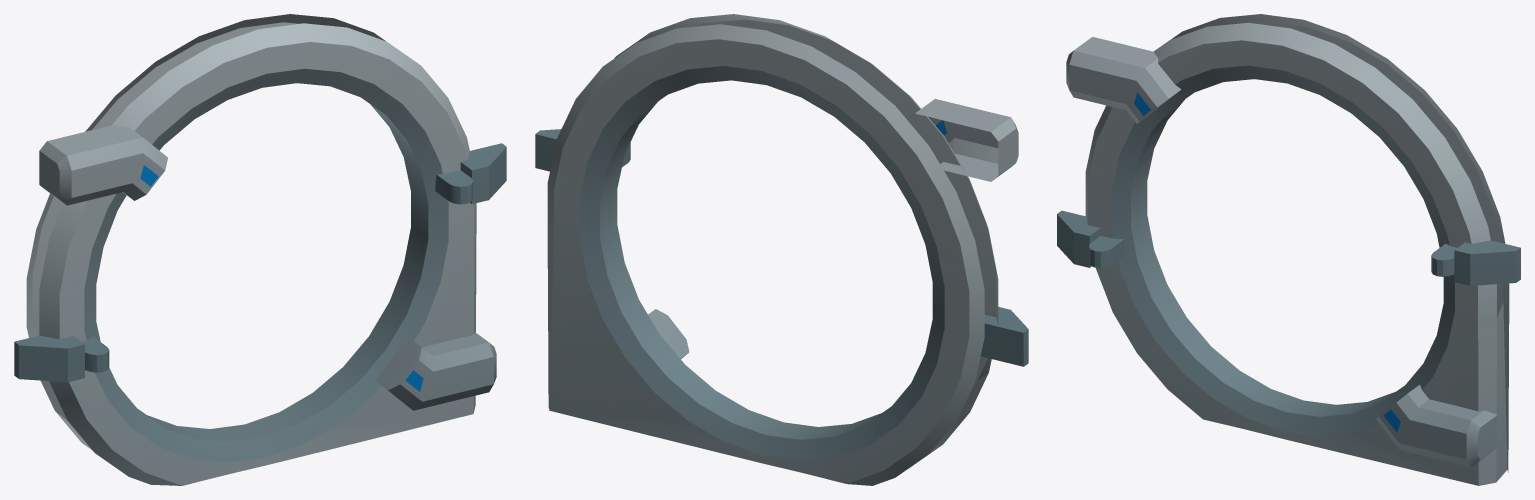
File: Door_006.fbx
The picture shows the model from 3 angles, left to right: view 1: azimuth 30°, elevation 25°; view 2: azimuth 150°, elevation 25°; view 3: azimuth 330°, elevation 25°; orthographic projection. The views are drawn at different scales.
Visible parts, largest first — view 1: Door_006; view 2: Door_006; view 3: Door_006.
Boxes of the visible parts, x1,y1,x2,y2 form: Door_006: [14, 14, 506, 485]; Door_006: [535, 14, 1028, 485]; Door_006: [1057, 14, 1520, 485].
Bounding box in the file's own units: 359 × 57.24 × 302.
